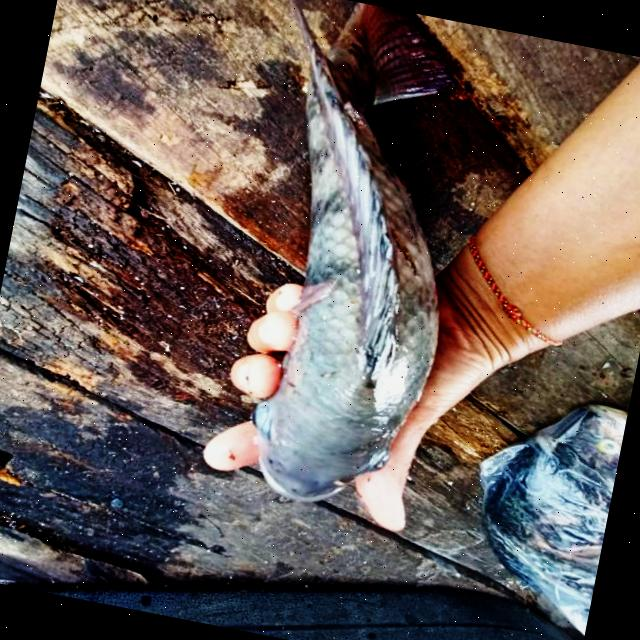Tilapia Lake Virus -TiLV-: (253, 2, 454, 501), (252, 1, 453, 499)
